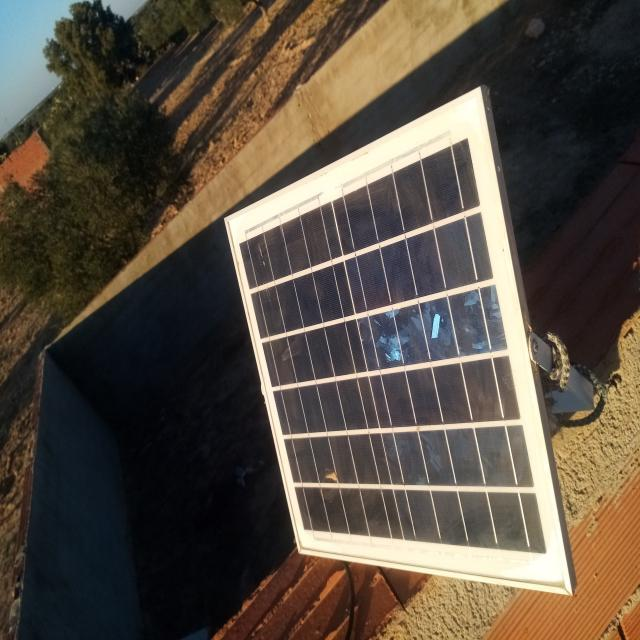faulty: (227, 89, 572, 594)
